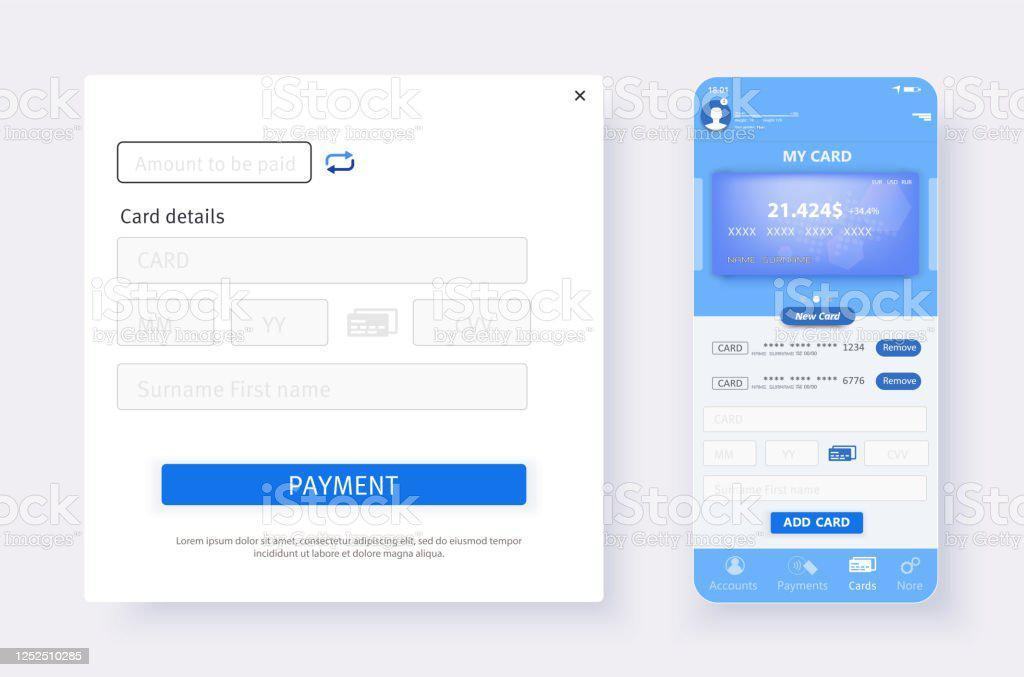button: (163, 466, 528, 507), (774, 513, 865, 536), (874, 371, 922, 392), (876, 340, 923, 358)
icon: (344, 303, 406, 344), (319, 147, 361, 178), (839, 553, 882, 580), (781, 554, 818, 581), (827, 442, 863, 466), (719, 554, 751, 581), (896, 552, 925, 578), (569, 89, 592, 107)
input: (118, 363, 529, 411), (119, 237, 527, 285), (118, 142, 312, 185), (702, 408, 928, 437), (703, 476, 928, 501), (416, 303, 532, 345), (231, 297, 328, 346), (119, 300, 214, 346), (767, 440, 821, 470), (870, 440, 926, 467), (703, 440, 757, 467)
